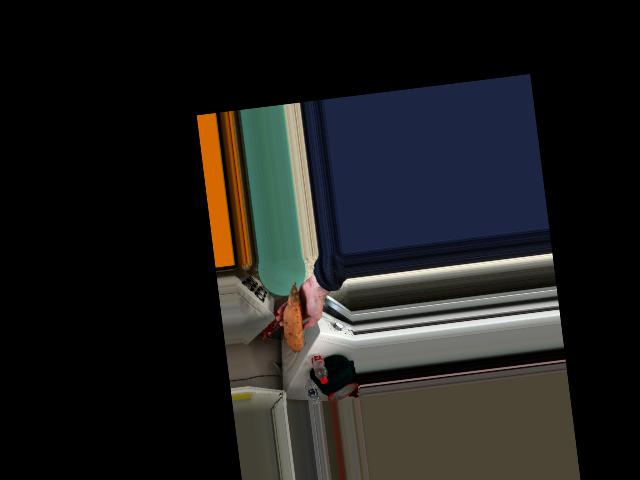sweet_potato: (282, 285, 308, 347)
